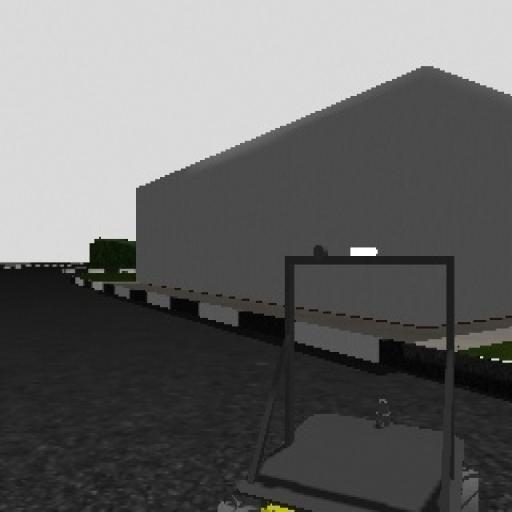huskya200: (216, 232, 486, 512)
